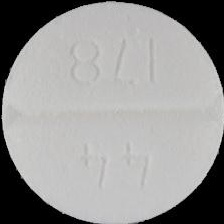0904-0250: (0, 0, 224, 224)
